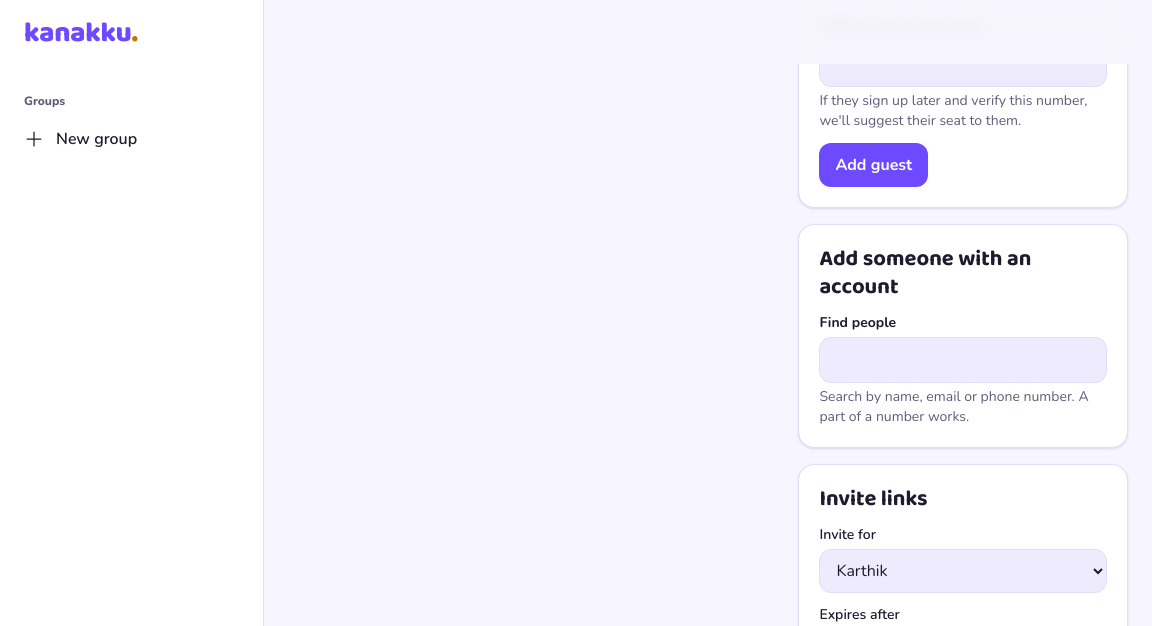
Test: MemberPicker › marks an unverified phone match and still adds that person with no error
The width and height of the screenshot is (1152, 626).
(page scrolled)
In the search field labelled "Find people": {"x": 963, "y": 360} [820, 338, 1106, 382], type "9876"
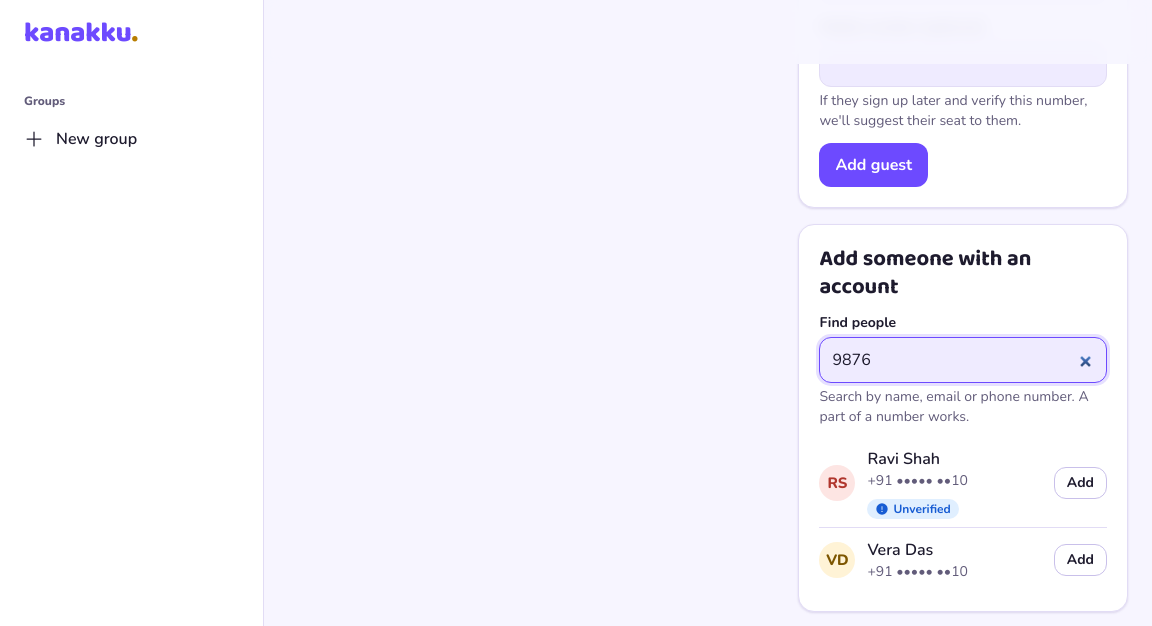
Expected: the text "Vera Das" does not show "Unverified"
Now the list item "Ravi Shah" shows "Unverified", box [893, 501, 951, 517]
Click the button with aria-label "Add Ravi Shah": {"x": 1080, "y": 483} [1054, 467, 1107, 499]
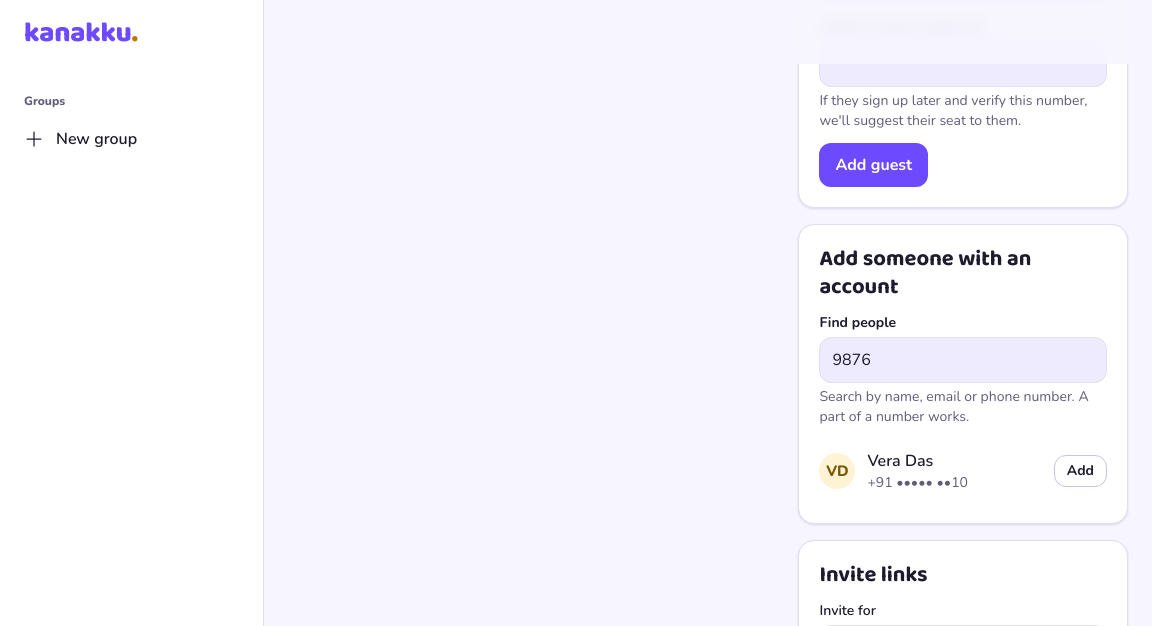
Now the text "Ravi Shah" is gone
